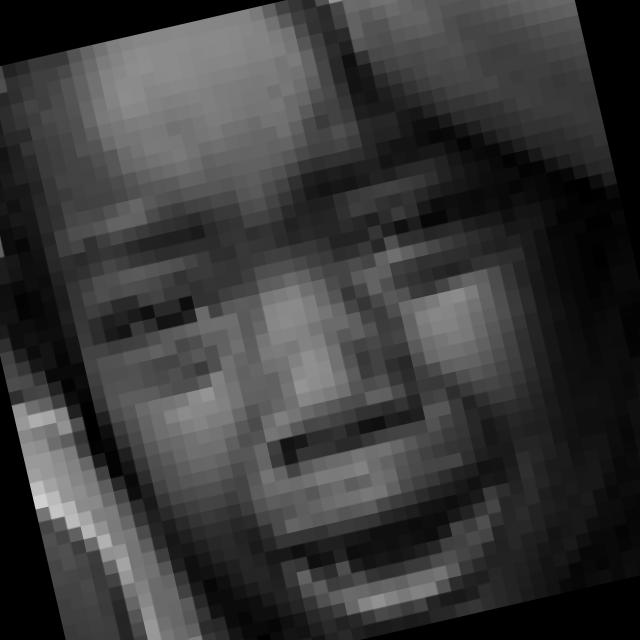sad: (38, 102, 601, 640)
